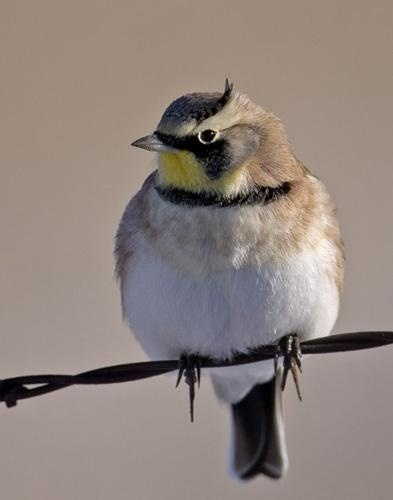bird: (115, 78, 344, 482)
